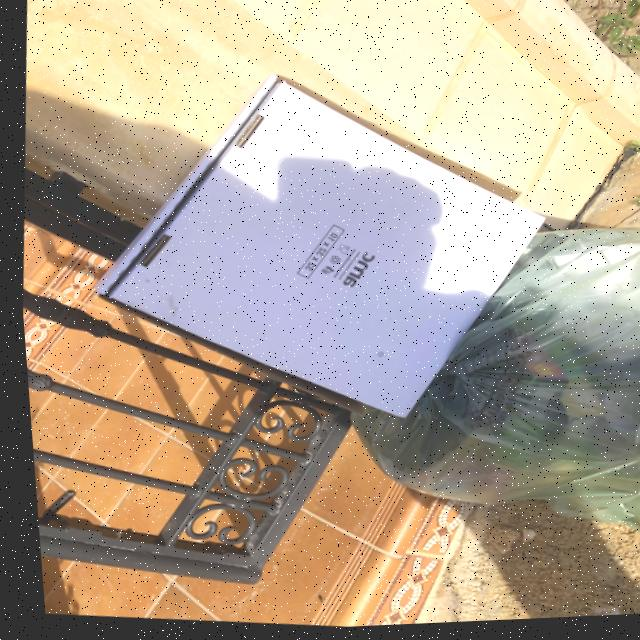Other: (58, 43, 568, 449)
Recycled Waste -Grey or Green Bag-: (314, 199, 640, 572)
